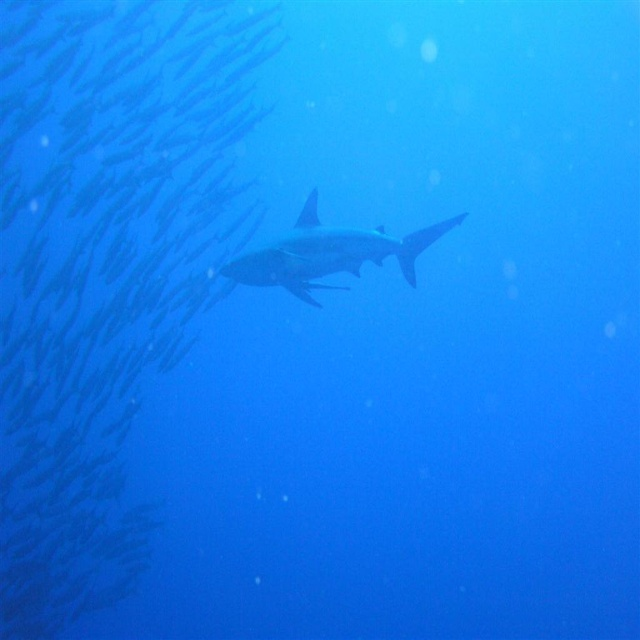Shark: (217, 184, 469, 305)
